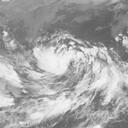cyclone: (36, 43, 87, 77)
